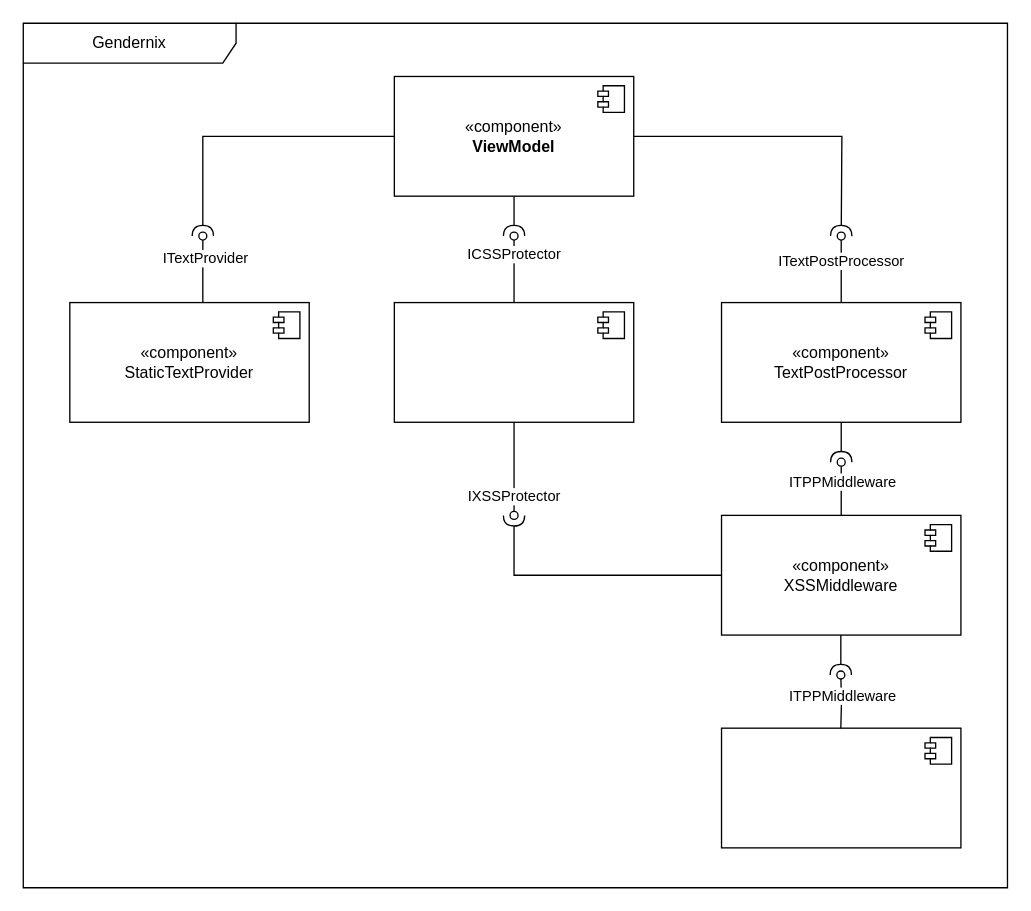
Some shapes in this 1031 by 911 pixel diagram are drawn without their labels. Each missing label, with the centre of its shape:
«component» DicGenderMiddleware: point 840,787
«component» XSSProtector: point 513,361
